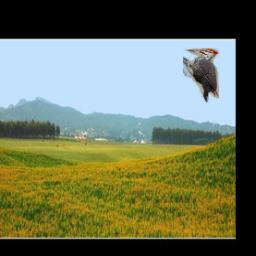Woodpecker: (182, 49, 218, 103)
